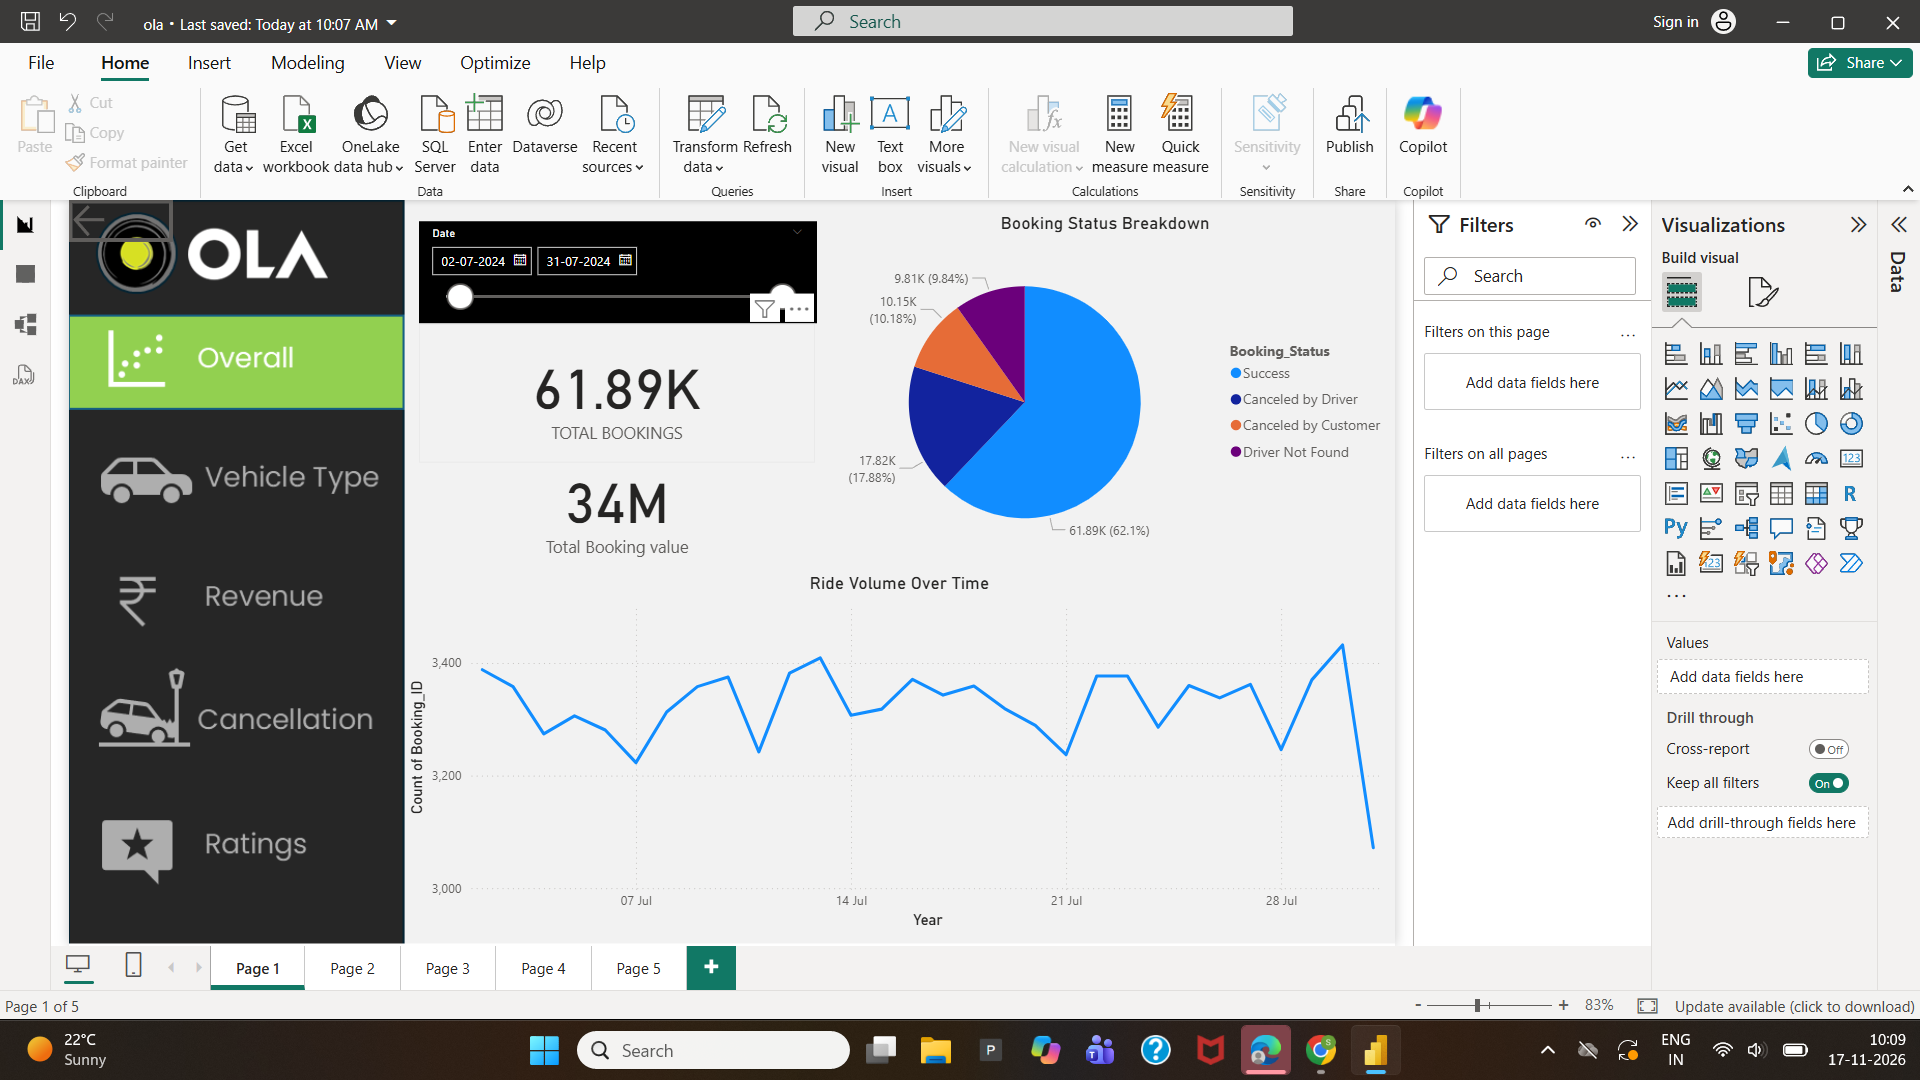

What the dashboard file says about the page in this screenshot:
{"tool":"powerbi","page":{"name":"Page 1","canvas":[1280,720],"ordinal":0},"visuals":[{"type":"actionButton","box":[0,0,100,40],"z":0},{"type":"actionButton","box":[0,0,100,40],"z":1000},{"type":"actionButton","box":[0,0,100,40],"z":2000},{"type":"actionButton","box":[0,0,100,40],"z":3000},{"type":"actionButton","box":[0,0,100,40],"z":4000},{"type":"actionButton","box":[0,0,100,40],"z":5000},{"type":"lineChart","title":"Ride Volume Over Time","fields":{"Y":["CountNonNull(Bookings-July.Booking_ID)"],"Category":["Bookings-July.Date.Variation.Date Hierarchy.Year","Bookings-July.Date.Variation.Date Hierarchy.Quarter","Bookings-July.Date.Variation.Date Hierarchy.Month","Bookings-July.Date.Variation.Date Hierarchy.Day"]},"box":[323.3,359.5,956.7,348.7],"z":6000},{"type":"pieChart","title":" Booking Status Breakdown","fields":{"Category":["Bookings-July.Booking_Status"],"Y":["CountNonNull(Bookings-July.Booking_Status)"]},"box":[720.2,12.1,559.8,347.5],"z":7000},{"type":"slicer","fields":{"Values":["Bookings-July.Date"]},"box":[337.6,20.6,382.8,98.8],"z":8000},{"type":"card","title":"Total Bookings","fields":{"Values":["CountNonNull(Bookings-July.Booking_ID)"]},"box":[337.8,119.4,382.4,133.9],"z":9000},{"type":"card","fields":{"Values":["Sum(Bookings-July.Booking_Value)"]},"box":[337.6,234.6,382.8,124.9],"z":10000},{"type":"actionButton","box":[0,0,100,40],"z":10001}]}

Visuals, with their boxes on the page's 1280x720 design canvas (x1, y1, x2, y2). These are canvas units, not pixel positions in the 1920x1080 screenshot, which may show the page scaled, cropped or inside an application window:
actionButton: x1=0, y1=0, x2=100, y2=40
actionButton: x1=0, y1=0, x2=100, y2=40
actionButton: x1=0, y1=0, x2=100, y2=40
actionButton: x1=0, y1=0, x2=100, y2=40
actionButton: x1=0, y1=0, x2=100, y2=40
actionButton: x1=0, y1=0, x2=100, y2=40
"Ride Volume Over Time" lineChart: x1=323, y1=360, x2=1280, y2=708
" Booking Status Breakdown" pieChart: x1=720, y1=12, x2=1280, y2=360
slicer - Bookings-July.Date: x1=338, y1=21, x2=720, y2=119
"Total Bookings" card: x1=338, y1=119, x2=720, y2=253
card - Sum(Bookings-July.Booking_Value): x1=338, y1=235, x2=720, y2=360
actionButton: x1=0, y1=0, x2=100, y2=40
